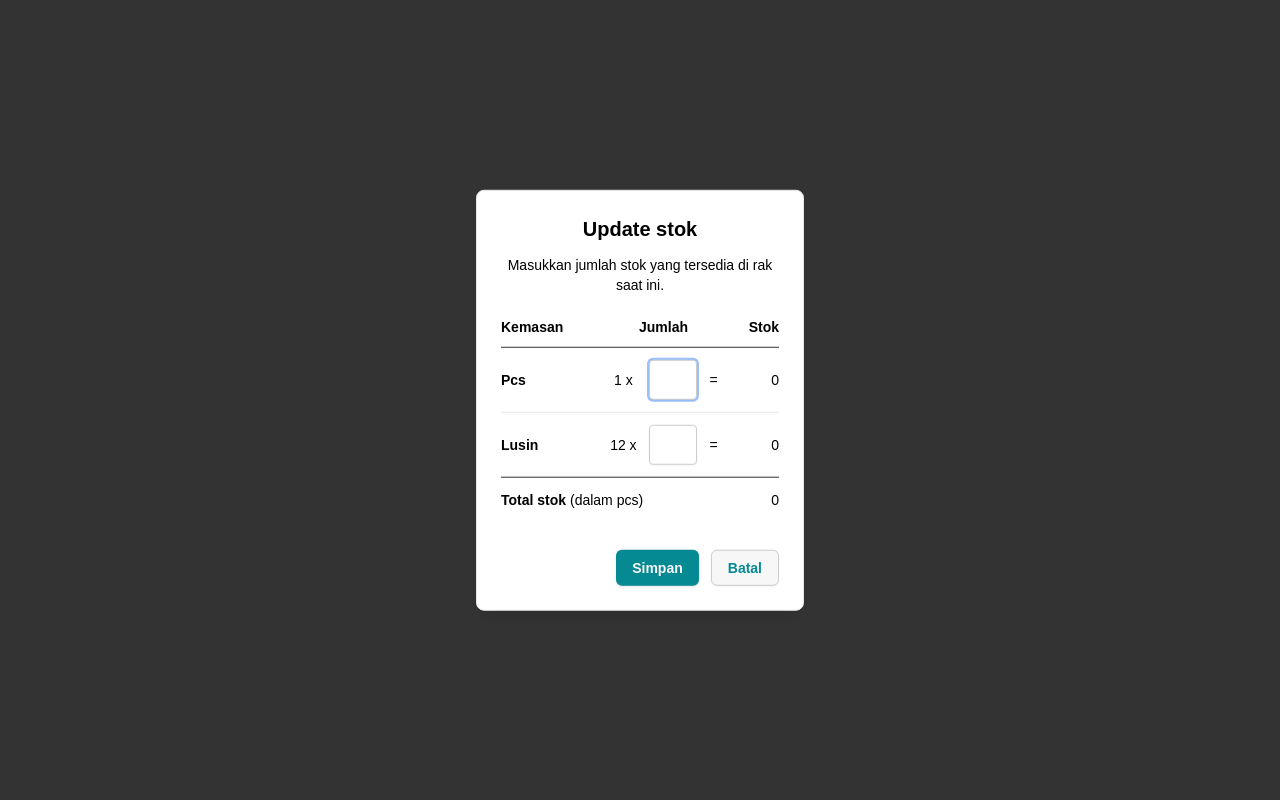
should display updated pcs value in result
Type "10" into the number field with test id "pcs-input" at {"x": 673, "y": 379}, box [649,359,697,399]
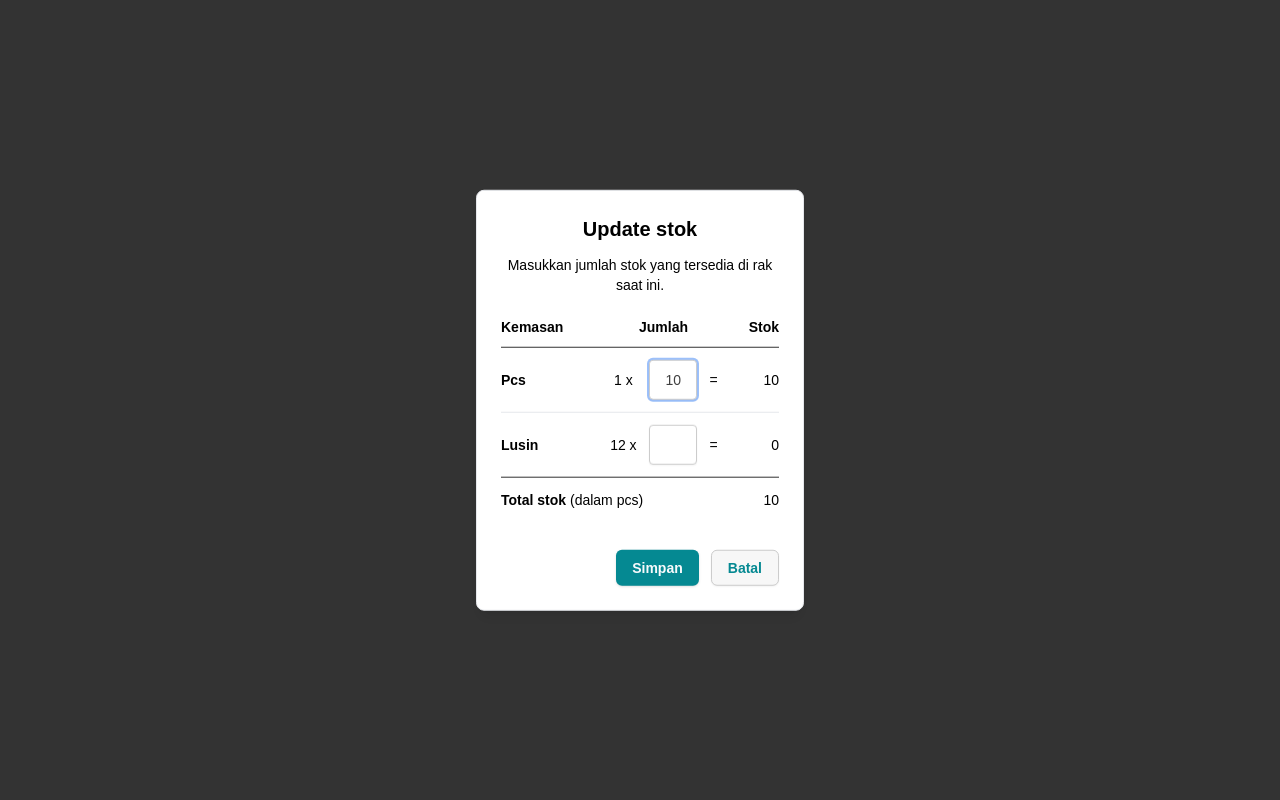
Check: the cell with test id "pcs-result" reads "10", box [763,371,779,387]
